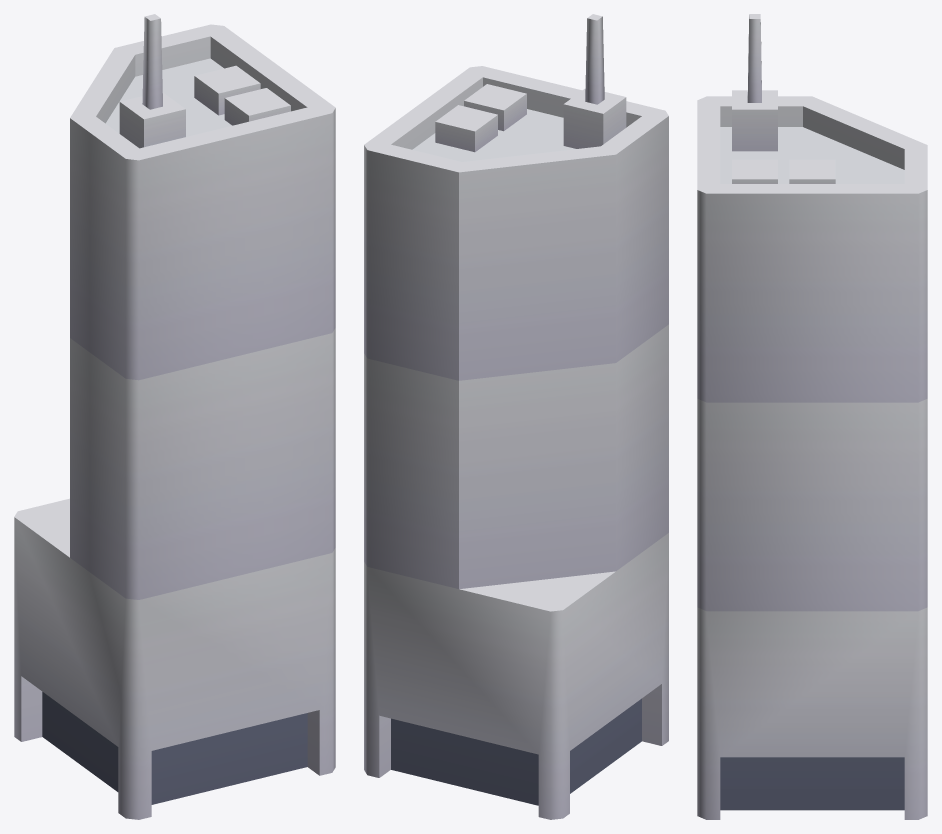
File: low-detail-building-j.glb
3 views of the same model, side by side, from view 1: azimuth 30°, elevation 25°; view 2: azimuth 150°, elevation 25°; view 3: azimuth 270°, elevation 25° (orthographic). The views are drawn at different scales.
Visible parts, largest first — view 1: low-detail-building-j; view 2: low-detail-building-j; view 3: low-detail-building-j.
Boxes of the visible parts, box(x1,y1,x2,y2) form: low-detail-building-j: box(14, 14, 335, 819); low-detail-building-j: box(364, 14, 668, 819); low-detail-building-j: box(697, 14, 927, 819).
Bounding box in the file's own units: 0.4999 × 1.75 × 0.4999.
1 material, 1 textured.
